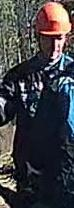helmet: (35, 1, 71, 37)
vest: (11, 55, 74, 159)
